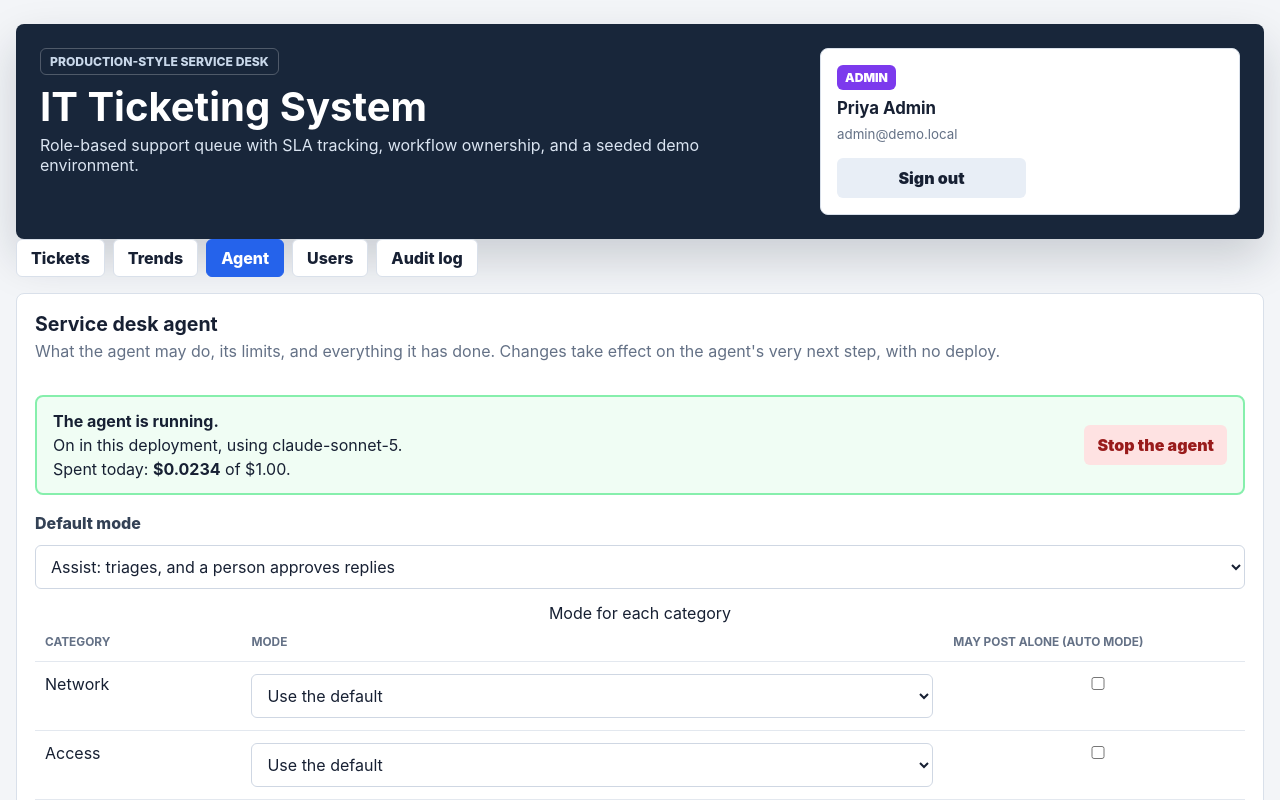
Test: the kill switch › shows the API’s refusal
This screenshot has width=1280, height=800.
Check: the heading "Service desk agent" is shown, box [35,312,218,336]
Step 1. Click the button "Stop the agent" → (1156, 445), box [1084,425,1227,465]
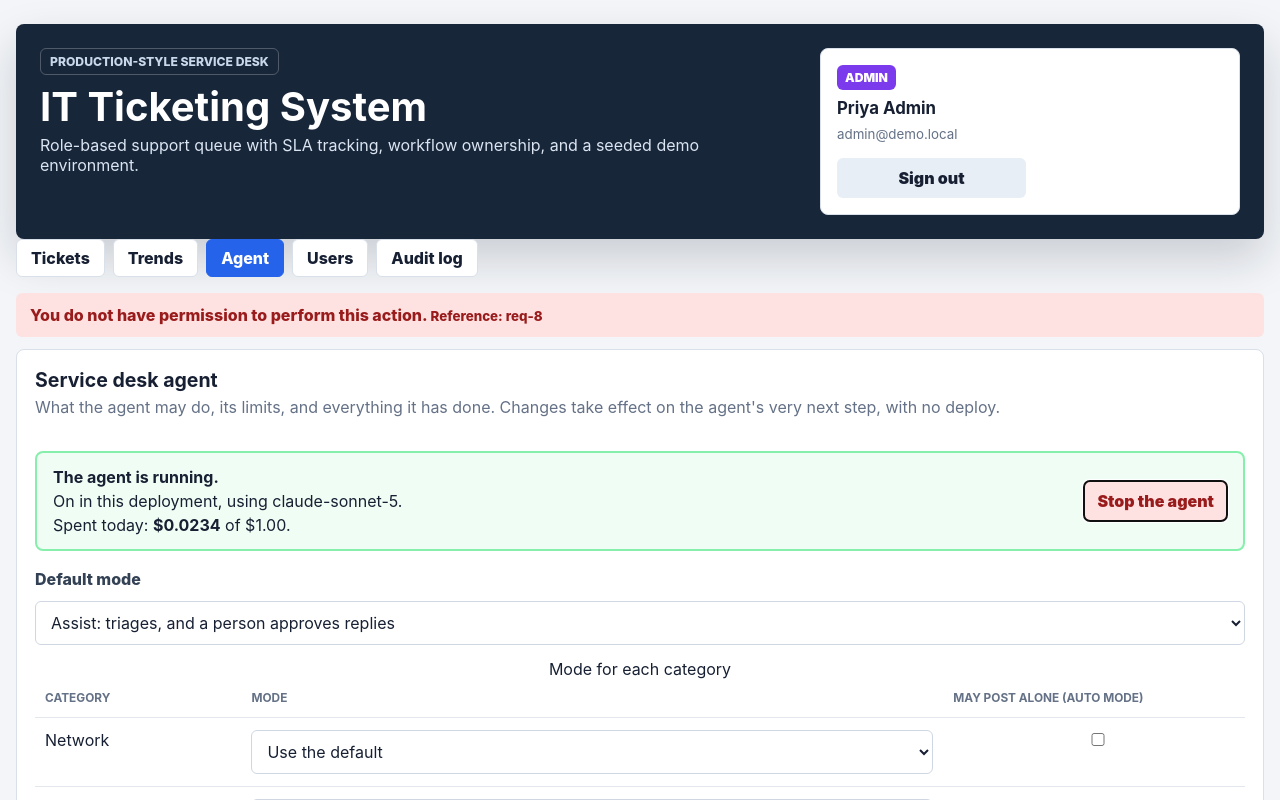
Check: the text "The agent is running." is shown, box [53,467,219,487]
Check: the text "You do not have permission to perform this action." is shown, box [30,305,428,325]
